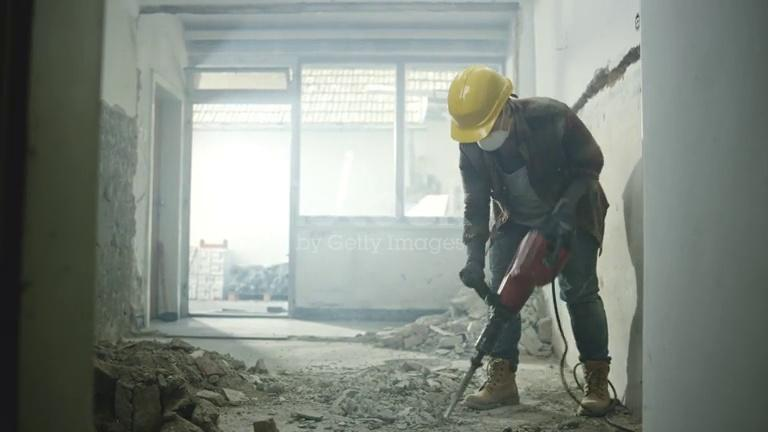helmet: (448, 65, 514, 143)
mask: (479, 117, 511, 151)
person: (445, 65, 619, 420)
